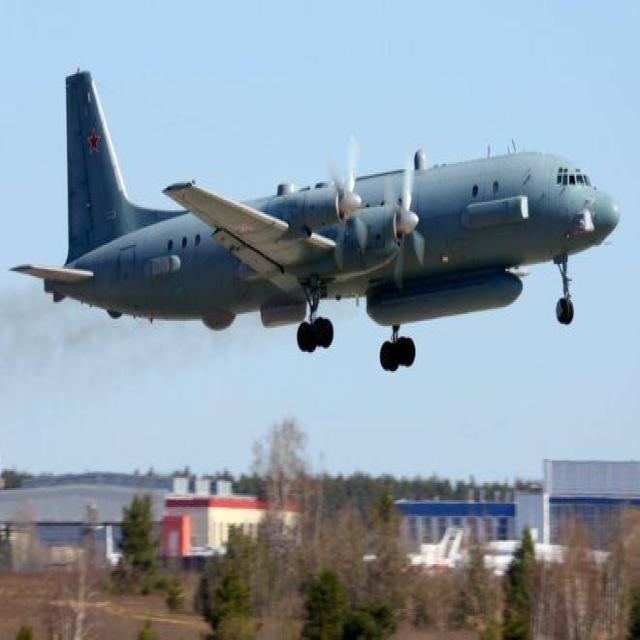Tanks: (52, 45, 577, 355)
